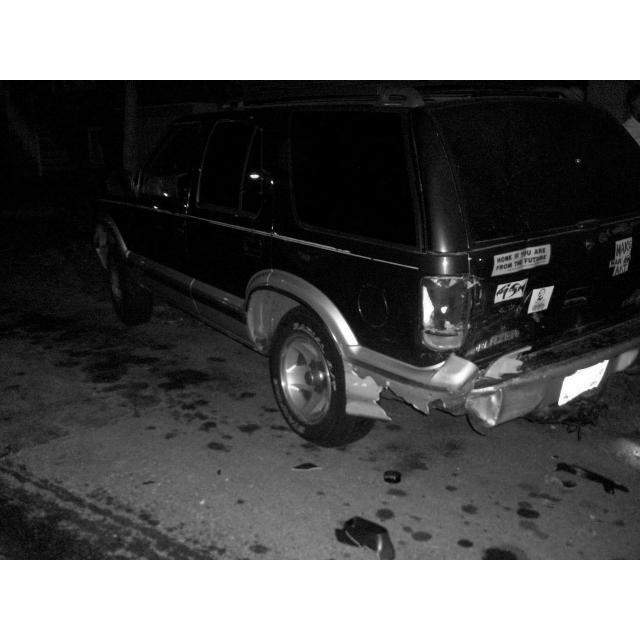Rear-windscreen-Damage: (345, 355, 640, 453)
